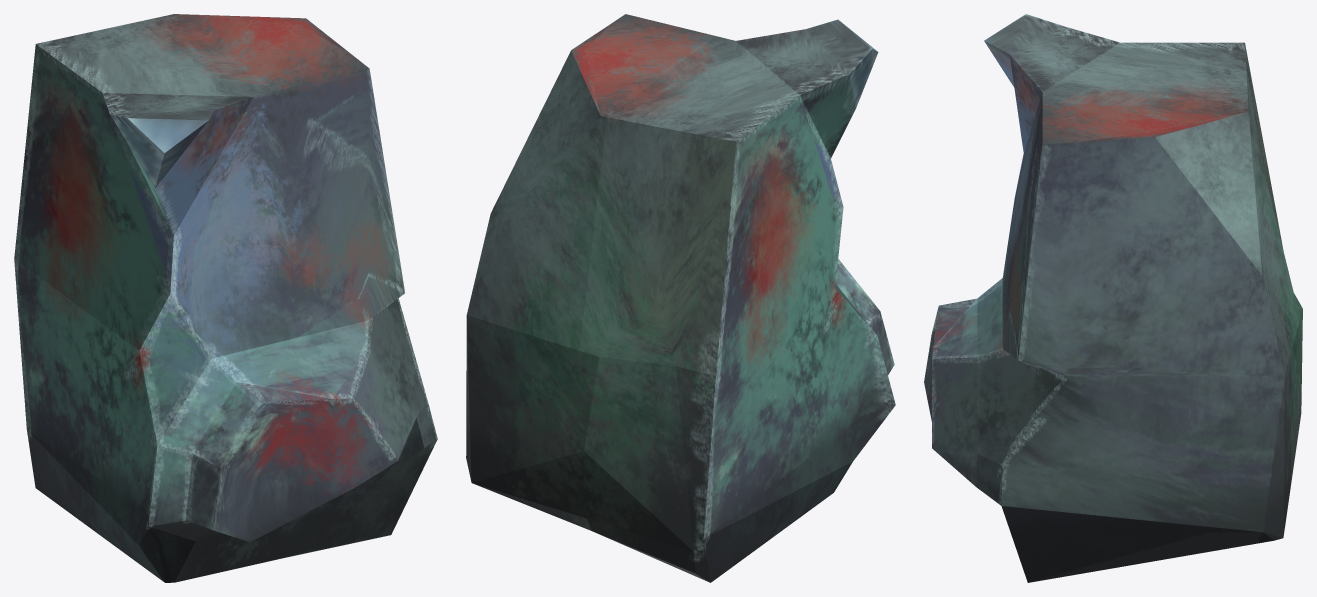
The model's file is Rock 4.fbx.
The picture shows the model from 3 angles, left to right: view 1: azimuth 30°, elevation 25°; view 2: azimuth 150°, elevation 25°; view 3: azimuth 270°, elevation 25°; orthographic projection. The views are drawn at different scales.
Visible parts, largest first — view 1: Rock 4; view 2: Rock 4; view 3: Rock 4.
Boxes of the visible parts, x1,y1,x2,y2 form: Rock 4: [14, 14, 437, 582]; Rock 4: [466, 14, 895, 582]; Rock 4: [924, 14, 1302, 582].
Size of the model in its own units: 230 by 351 by 269.
Materials: 1 (1 with a texture image).
